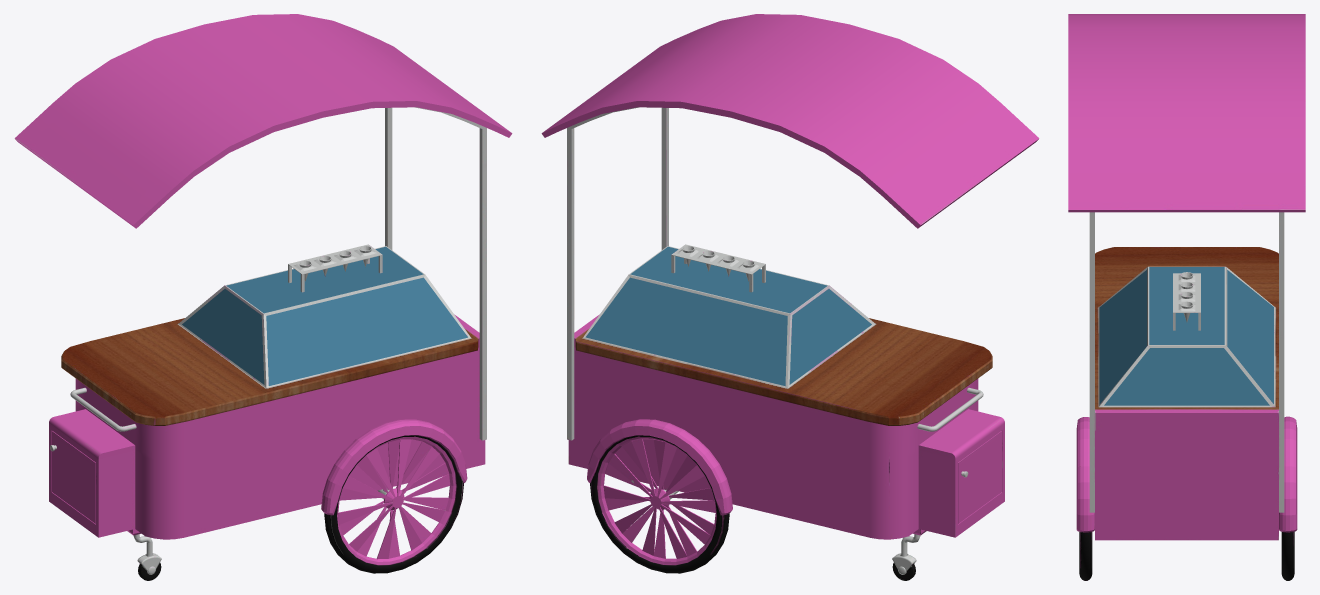
The model's file is icecream.glb.
3 views of the same model, side by side, from view 1: azimuth 30°, elevation 25°; view 2: azimuth 150°, elevation 25°; view 3: azimuth 270°, elevation 25° (orthographic).
Parts seen in each view (by area): view 1: polySurface9, pCylinder29, pCylinder21, pCube5; view 2: polySurface9, pCylinder29, pCylinder21, pCube5; view 3: polySurface9, pCylinder29, pCylinder21, pCube5.
Part boxes in pixels (<box>): polySurface9: <box>49,246,485,580</box>; pCylinder29: <box>14,14,512,440</box>; pCylinder21: <box>321,419,467,573</box>; pCube5: <box>288,244,382,292</box>; polySurface9: <box>568,246,1004,580</box>; pCylinder29: <box>541,14,1039,440</box>; pCylinder21: <box>587,419,732,573</box>; pCube5: <box>671,244,765,292</box>; polySurface9: <box>1095,247,1278,540</box>; pCylinder29: <box>1068,14,1305,512</box>; pCylinder21: <box>1076,416,1297,580</box>; pCube5: <box>1173,273,1200,330</box>.
Size of the model in its own units: 13.76 by 16.63 by 7.37.
2 materials, 2 textured.
